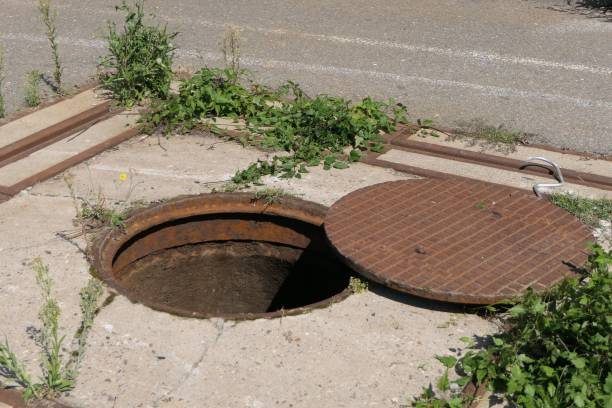open_manhole: (98, 178, 352, 320)
